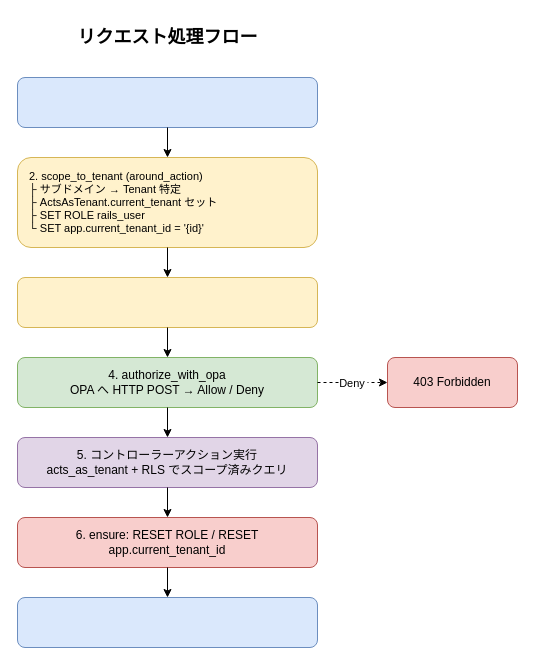
Some shapes in this 535 by 665 pixel diagram are drawn without their labels. Each missing label, with the centre of its shape:
"1. ブラウザからリクエスト company-a.localhost:8080/projects" belongs at (167,102).
"3. authenticate_user! Devise による認証チェック" belongs at (167,302).
"7. レスポンス返却 (HTML / Turbo Frame)" belongs at (167,622).
